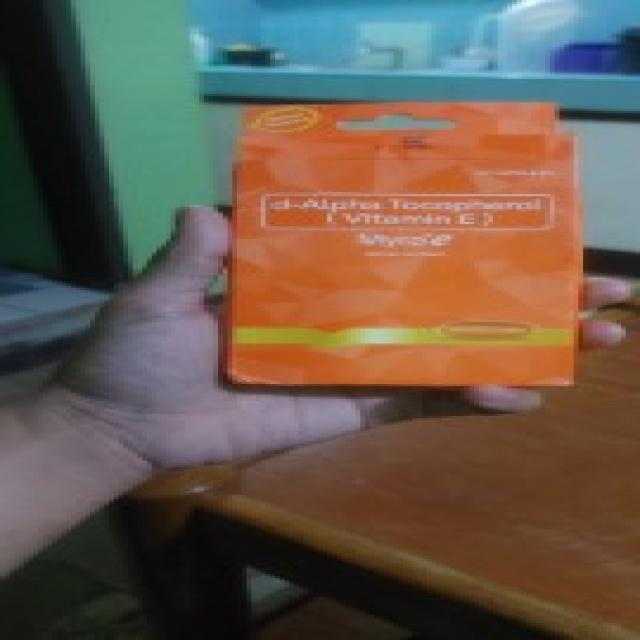Cacat: (218, 100, 586, 387)
